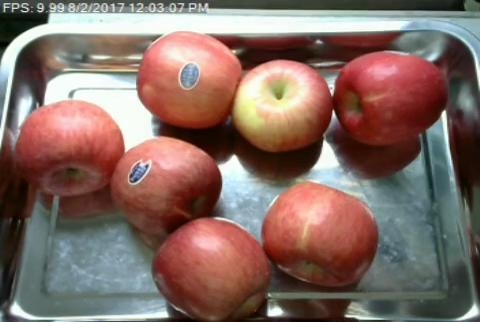apple: (264, 181, 379, 285), (153, 218, 266, 320), (334, 50, 447, 145), (117, 138, 221, 227), (137, 30, 234, 125), (17, 101, 114, 194), (234, 62, 331, 149)
